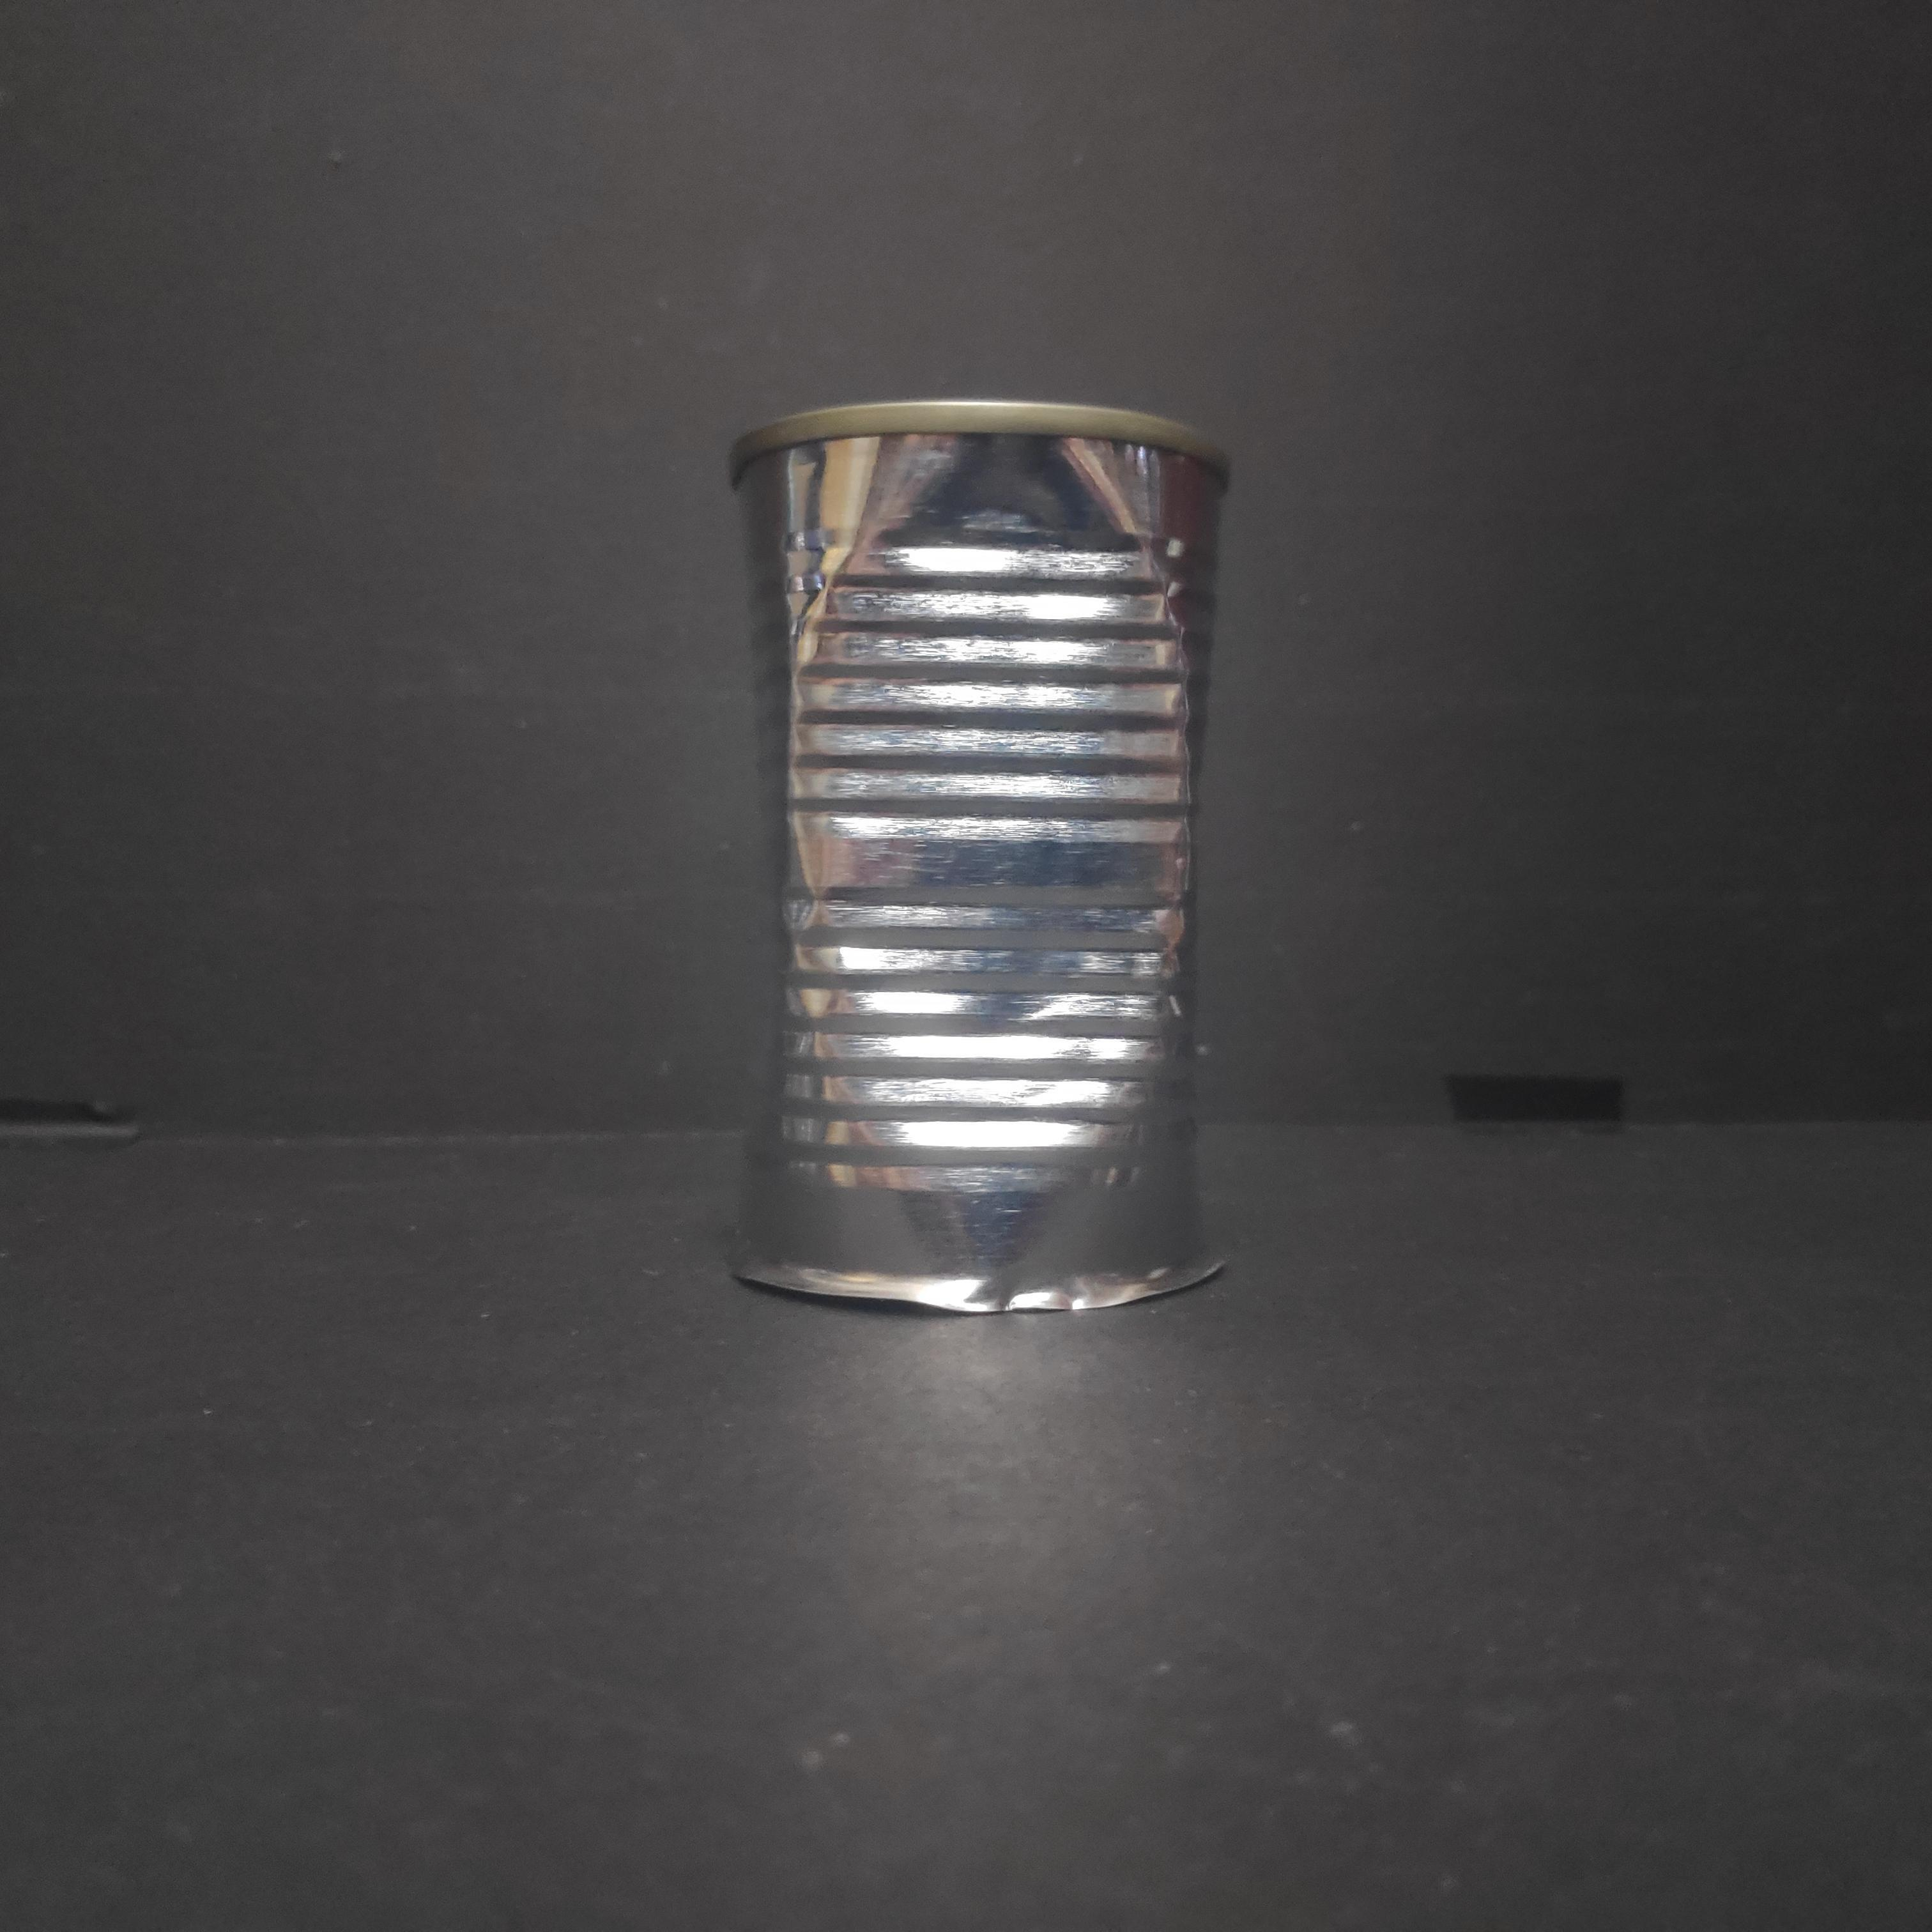Dented: (706, 370, 1237, 1352)
